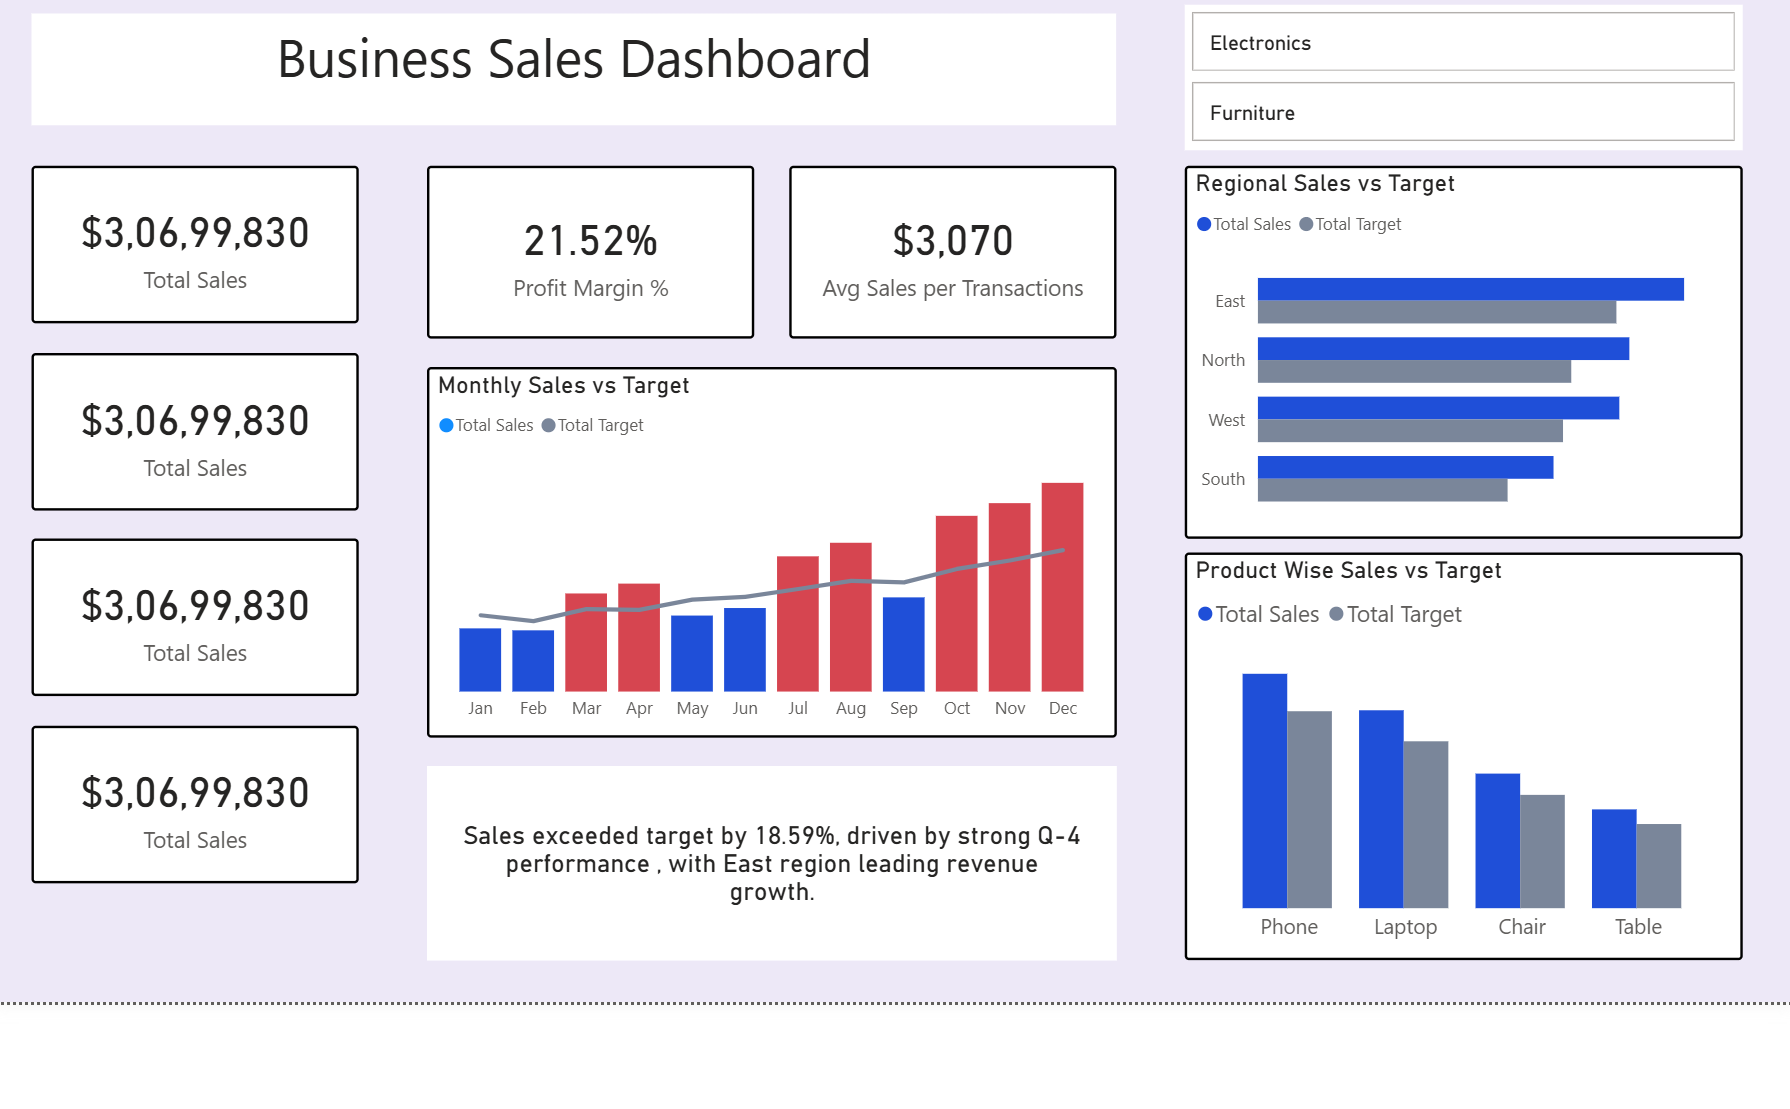

The dashboard page shown, as its layout file describes it:
{"tool":"powerbi","page":{"name":"Page 1","canvas":[1280,720],"ordinal":0},"visuals":[{"type":"card","fields":{"Values":["Measures (2).Total Sales"]},"box":[27.4,125.6,232.6,111.9],"z":0},{"type":"card","fields":{"Values":["Measures (2).Profit Margin %"]},"box":[308.5,125.6,232.6,123.1],"z":4000},{"type":"card","fields":{"Values":["Measures (2).Avg Sales per Transactions"]},"box":[565.9,125.6,232.6,123.1],"z":4001},{"type":"lineClusteredColumnComboChart","title":"Monthly Sales vs Target","fields":{"Y":["Measures (2).Total Sales"],"Y2":["Measures (2).Total Target"],"Category":["Calendar.Month"]},"box":[308.5,268.7,490,263.7],"z":4002},{"type":"clusteredBarChart","title":"Regional Sales vs Target","fields":{"Category":["Dim_Region.Region"],"Y":["Measures (2).Total Sales","Measures (2).Total Target"]},"box":[847,125.6,396.8,264.9],"z":4003},{"type":"clusteredColumnChart","title":"Product Wise Sales vs Target","fields":{"Y":["Measures (2).Total Sales","Measures (2).Total Target"],"Category":["Dim_Product.Product"]},"box":[847,400.5,396.8,289.8],"z":4004},{"type":"advancedSlicerVisual","fields":{"Values":["Dim_Product.Category"]},"box":[847,11.2,396.8,103.2],"z":4005},{"type":"card","fields":{"Values":["Measures (2).Total Sales"]},"box":[27.4,258.3,232.6,111.9],"z":4006},{"type":"card","fields":{"Values":["Measures (2).Total Sales"]},"box":[27.4,391,232.6,111.9],"z":4007},{"type":"card","fields":{"Values":["Measures (2).Total Sales"]},"box":[27.4,523.6,232.6,111.9],"z":4008},{"type":"textbox","box":[27.4,17.4,771.1,79.6],"z":4009},{"type":"card","fields":{"Values":["Measures (2).Insight Text"]},"box":[308.5,552.2,490,138.1],"z":4010}]}

Visuals, with their boxes in screenshot pixels (x1, y1, x2, y2):
card - Measures (2).Total Sales: detection(11, 156, 344, 316)
card - Measures (2).Profit Margin %: detection(413, 156, 746, 332)
card - Measures (2).Avg Sales per Transactions: detection(781, 156, 1114, 332)
"Monthly Sales vs Target" lineClusteredColumnComboChart: detection(413, 361, 1114, 738)
"Regional Sales vs Target" clusteredBarChart: detection(1183, 156, 1750, 535)
"Product Wise Sales vs Target" clusteredColumnChart: detection(1183, 549, 1750, 964)
advancedSlicerVisual - Dim_Product.Category: detection(1183, 0, 1750, 140)
card - Measures (2).Total Sales: detection(11, 346, 344, 506)
card - Measures (2).Total Sales: detection(11, 536, 344, 696)
card - Measures (2).Total Sales: detection(11, 725, 344, 885)
textbox: detection(11, 2, 1114, 115)
card - Measures (2).Insight Text: detection(413, 766, 1114, 964)
